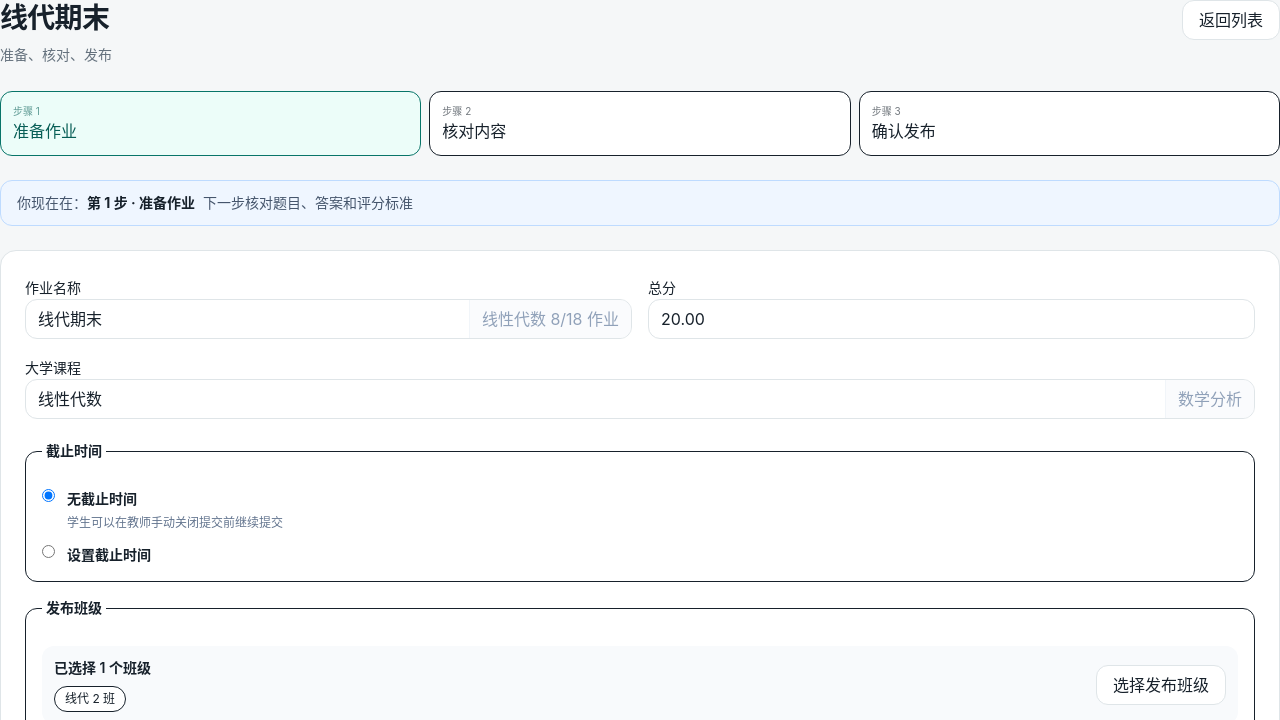
Test: 发布班级默认收起并支持搜索、全选当前结果和清空
Expected: the text "已选择 1 个班级" is shown, x1=54 y1=658 x2=151 y2=678
Expected: the checkbox labelled "线代 3 班" is not shown
Click the button "选择发布班级".
click(1161, 685)  # box x1=1096 y1=665 x2=1226 y2=705
(page scrolled)
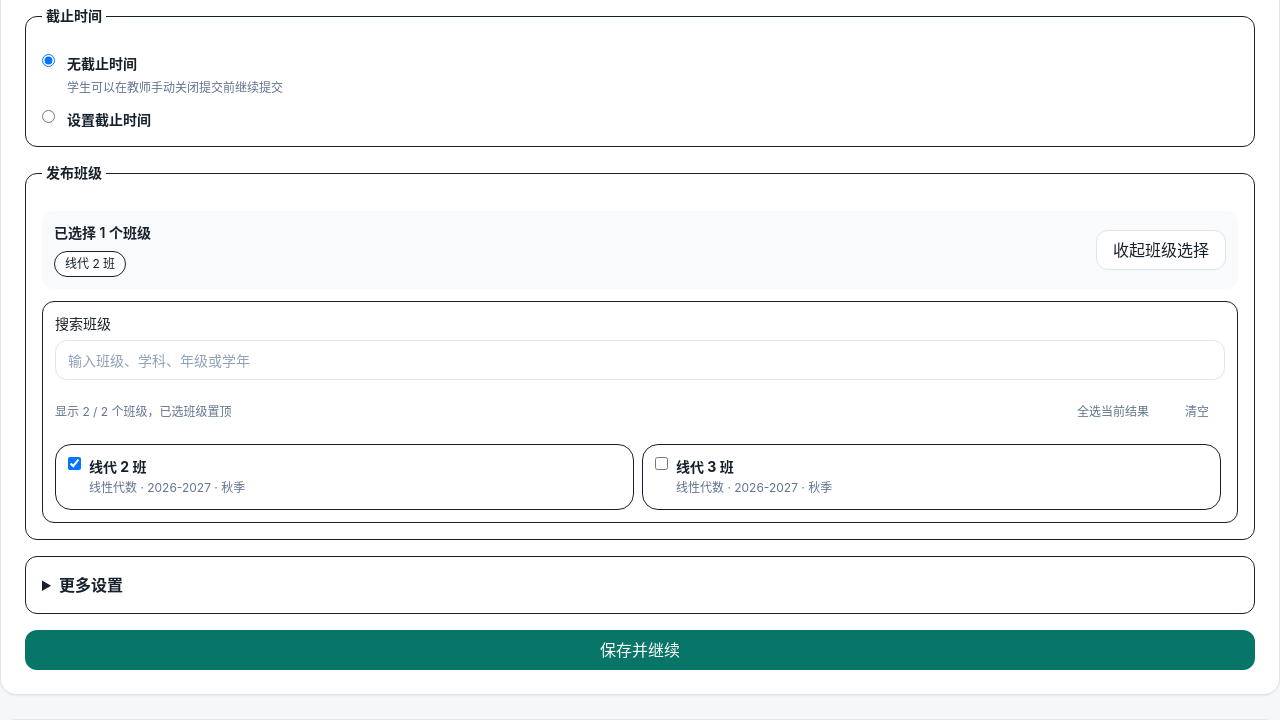
Type "3 班" into the field labelled "搜索班级".
click(640, 360); type("3 班")  # box x1=55 y1=340 x2=1225 y2=380
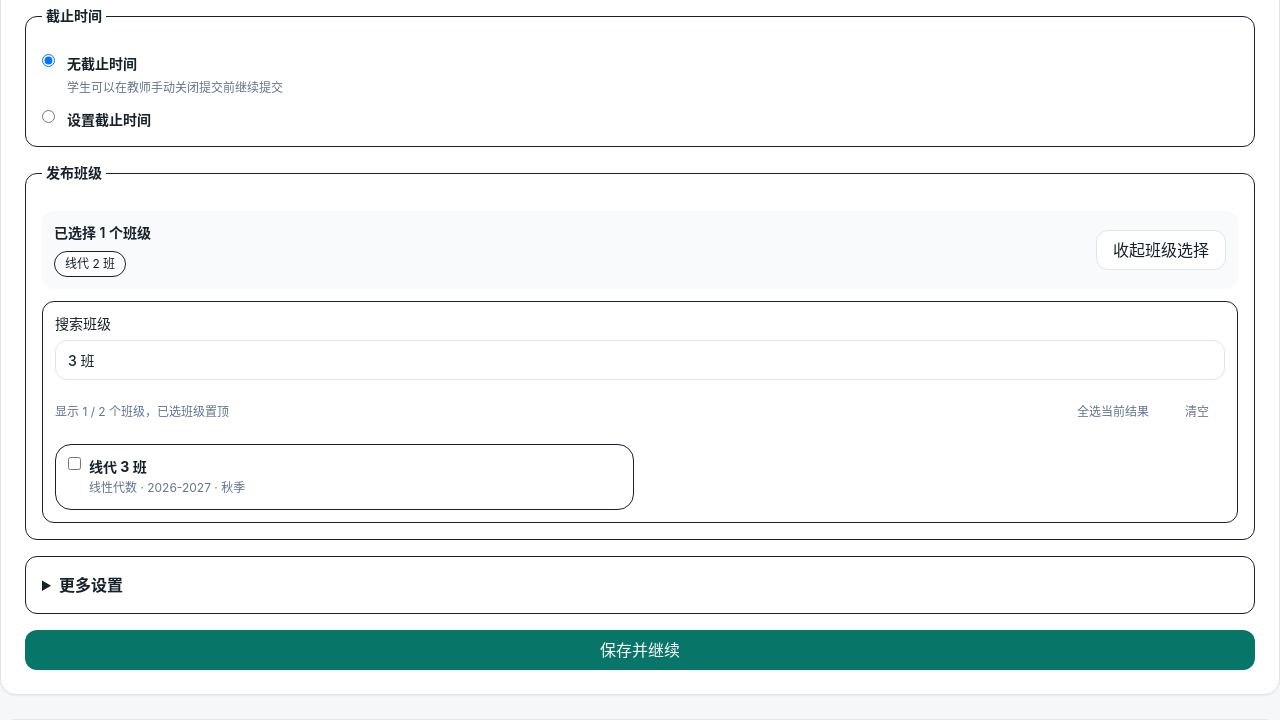
Expected: the text "显示 1 / 2 个班级，已选班级置顶" is shown, x1=55 y1=404 x2=229 y2=420
Click the button "全选当前结果".
click(1113, 412)  # box x1=1061 y1=392 x2=1165 y2=432
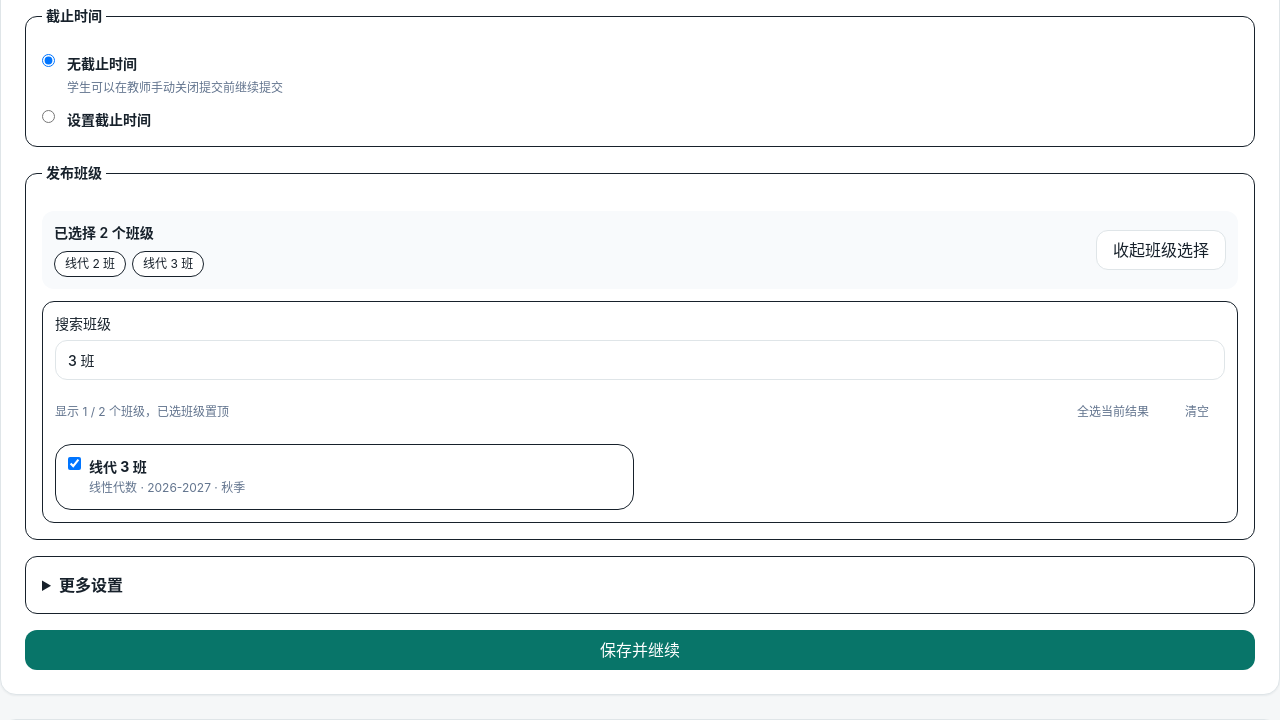
Expected: the text "已选择 2 个班级" is shown, x1=54 y1=224 x2=154 y2=241
Click the button "清空".
click(1197, 412)  # box x1=1169 y1=392 x2=1225 y2=432
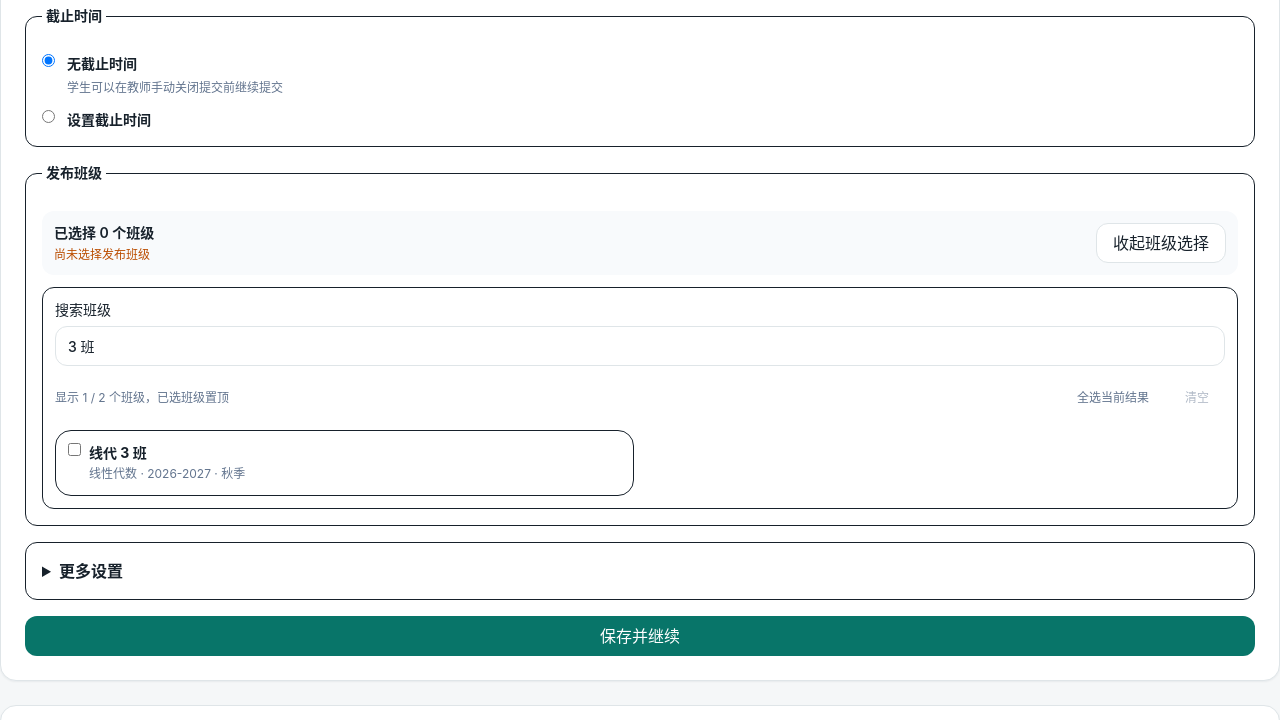
Expected: the text "尚未选择发布班级" is shown, x1=54 y1=247 x2=154 y2=263
